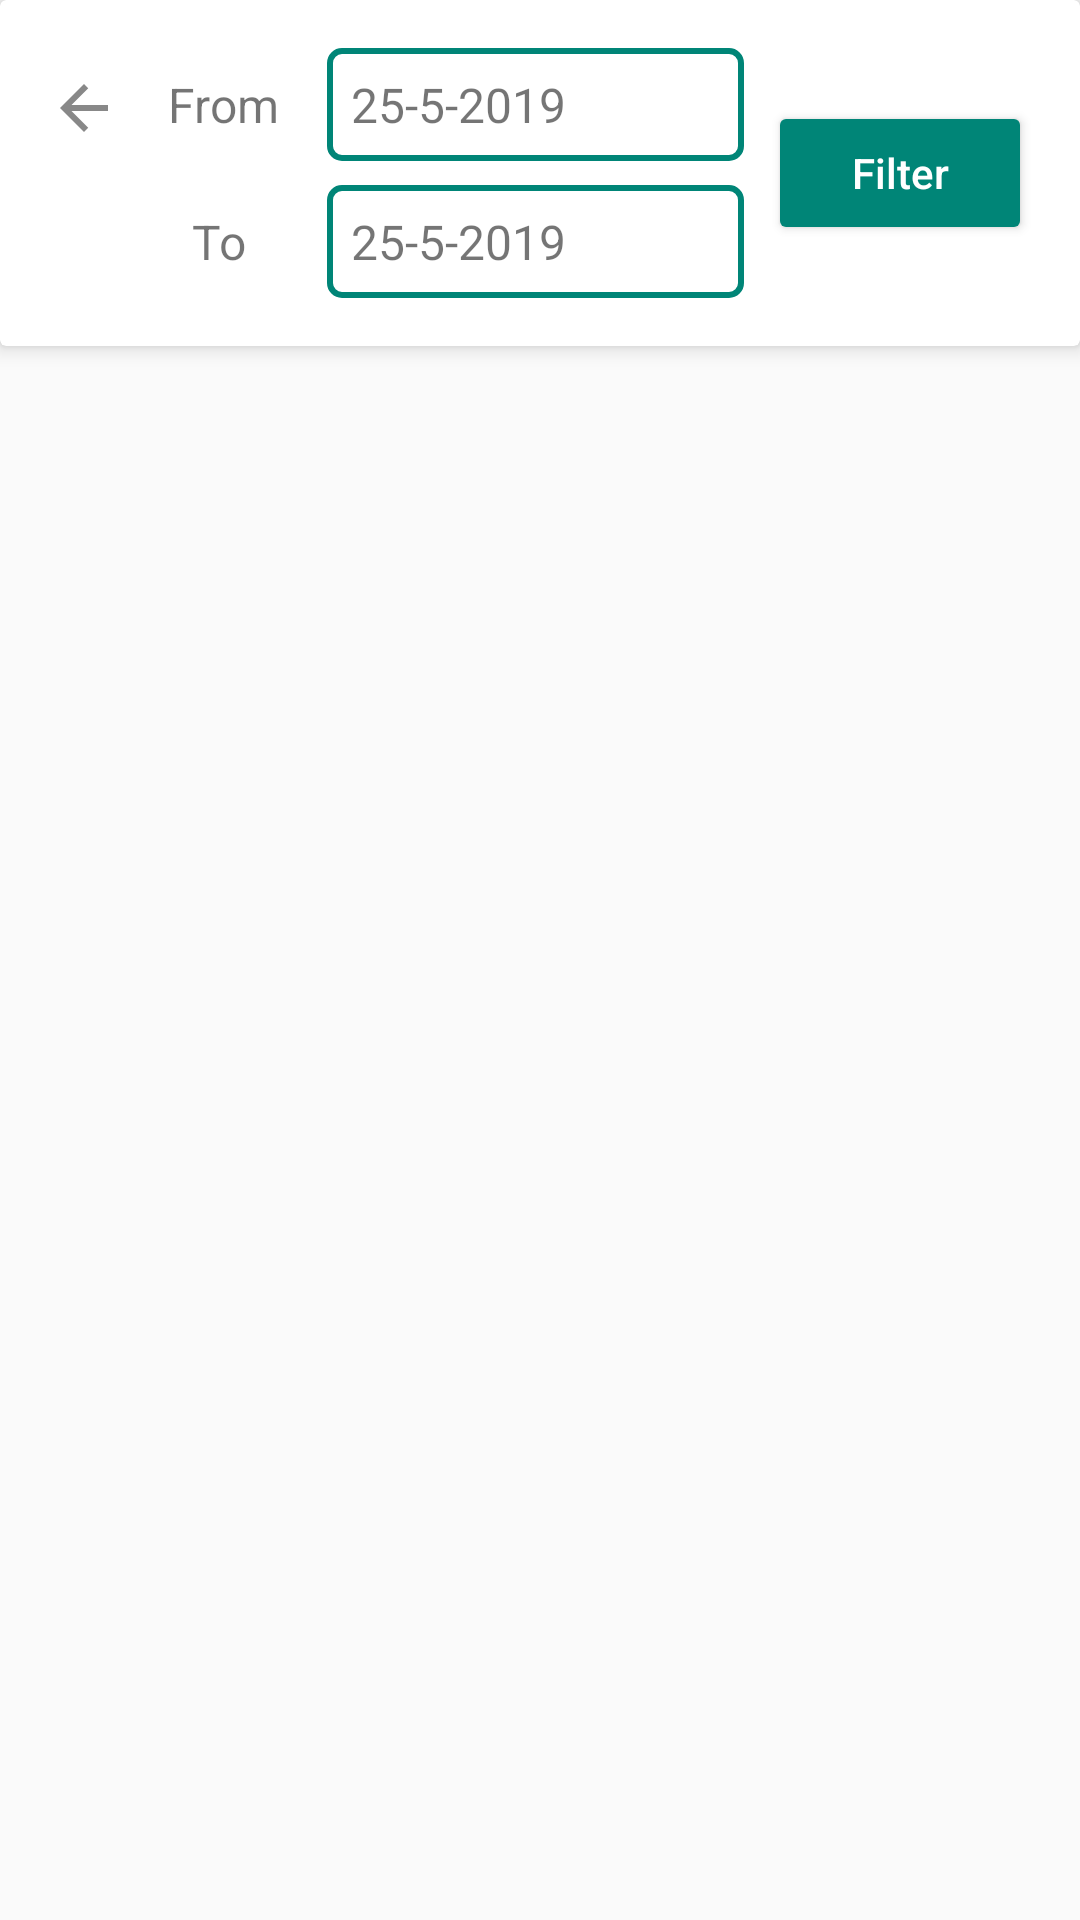

Named icons in this screenshot (1080w x 1920h) and their bounding boxes, (x1, y1, x2, y2):
arrow back: (60, 84, 108, 132)
